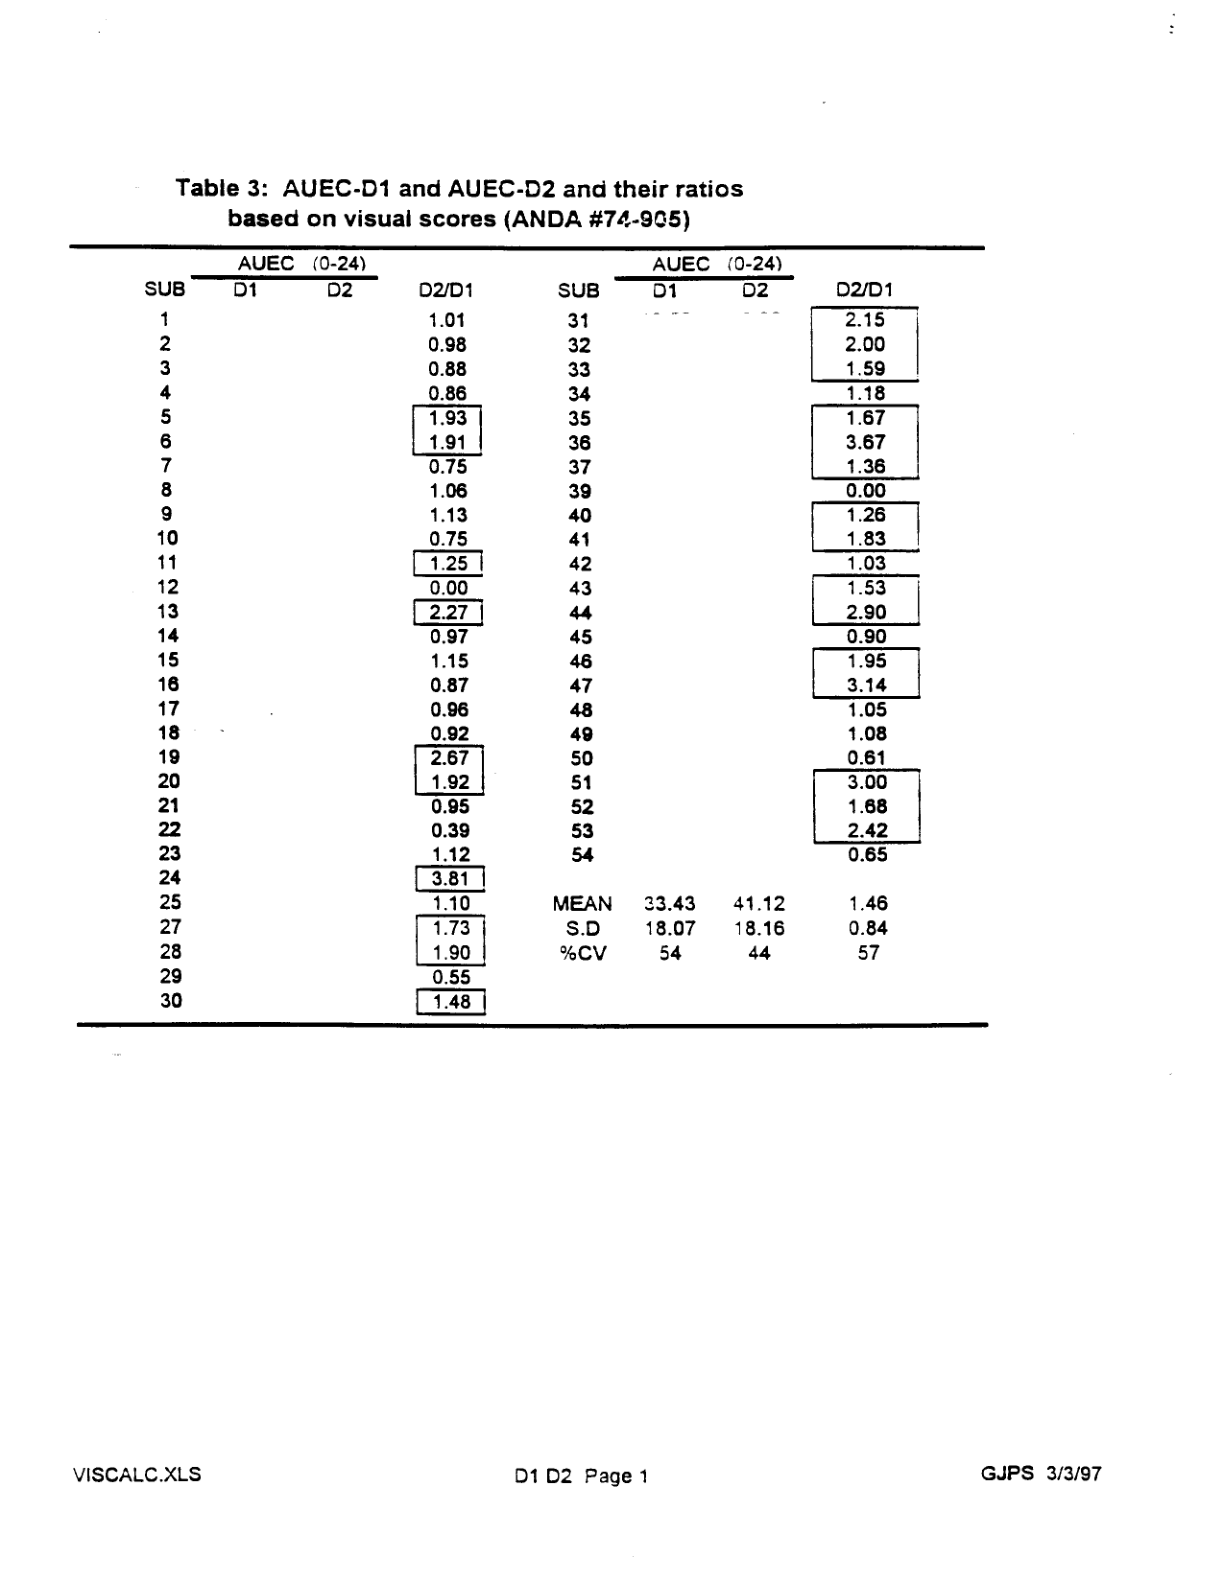partial_lined_merged_cells: (68, 242, 989, 1030)
